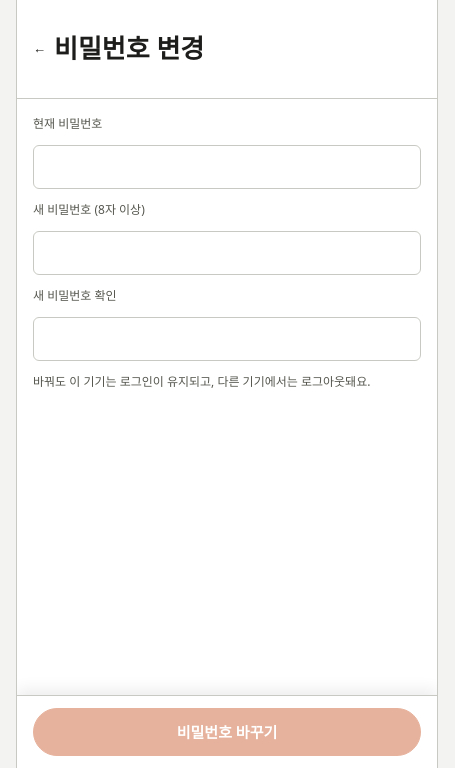
PasswordChangePage (C9) › 확인이 다르면 확인 칸 아래 임시 문구가 보이고 비활성이다
Expected: the heading "비밀번호 변경" is shown, [54,29,204,68]
Type "old12345" into the password field labelled "현재 비밀번호" at {"x": 227, "y": 167}, box [33,145,421,189]
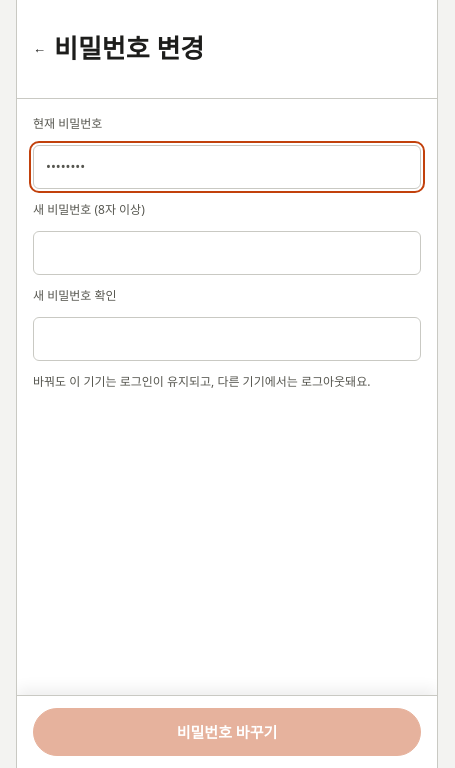
Type "new12345" into the password field labelled "새 비밀번호 (8자 이상)" at {"x": 227, "y": 253}, box [33,231,421,275]
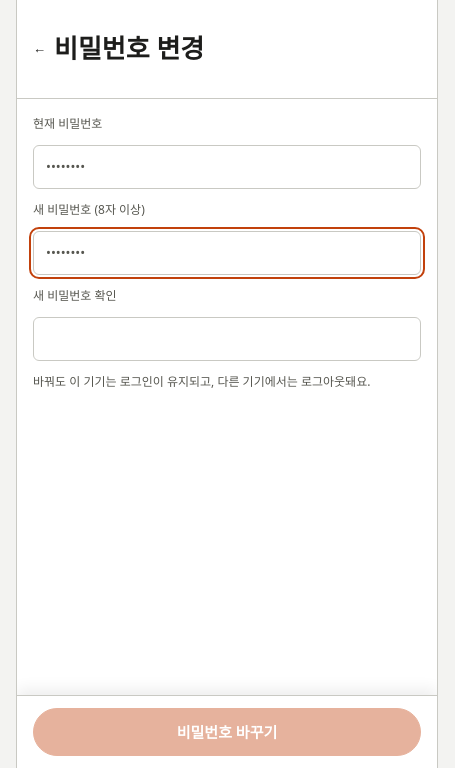
Type "new12346" into the password field labelled "새 비밀번호 확인" at {"x": 227, "y": 339}, box [33,317,421,361]
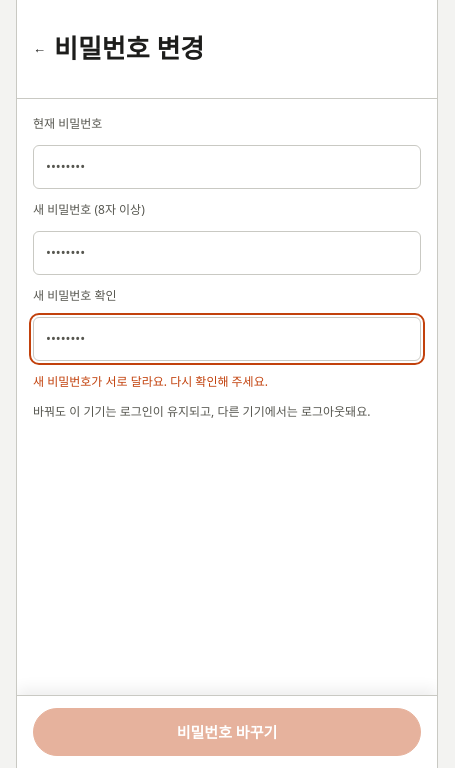
Expected: the text "새 비밀번호가 서로 달라요. 다시 확인해 주세요." is shown, [33,373,268,390]
